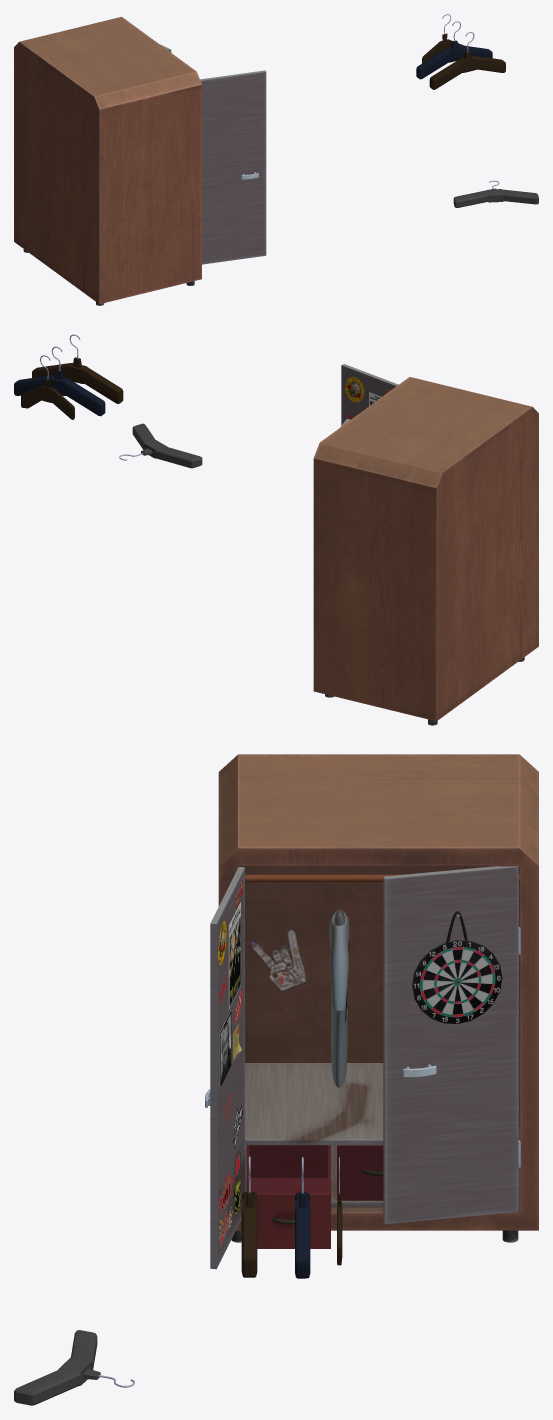
The model's file is closet.glb.
The picture shows the model from 3 angles, top to bottom: view 1: azimuth 30°, elevation 25°; view 2: azimuth 150°, elevation 25°; view 3: azimuth 270°, elevation 25°; orthographic projection. The views are drawn at different scales.
Visible parts, largest first — view 1: armario, porta_1, cabide2, cabide3, cabide, cabide1; view 2: armario, porta_1, cabide, cabide2, cabide3, cabide1; view 3: armario, porta_2, porta_1, gaveta_03, arco, camisola, cabide3, gaveta_02, cabide2, cabide, posteres:poster_n1.
Boxes of the visible parts, left/top/right/bottom form: armario: left=14, top=16, right=201, bottom=305; porta_1: left=200, top=70, right=266, bottom=264; cabide2: left=429, top=32, right=505, bottom=89; cabide3: left=453, top=180, right=538, bottom=207; cabide: left=416, top=21, right=492, bottom=79; cabide1: left=422, top=14, right=463, bottom=63; armario: left=313, top=377, right=538, bottom=725; porta_1: left=341, top=364, right=398, bottom=425; cabide: left=14, top=346, right=105, bottom=416; cabide2: left=32, top=334, right=123, bottom=403; cabide3: left=119, top=423, right=202, bottom=468; cabide1: left=21, top=355, right=74, bottom=419; armario: left=218, top=754, right=538, bottom=1242; porta_2: left=383, top=866, right=520, bottom=1224; porta_1: left=205, top=867, right=244, bottom=1269; gaveta_03: left=246, top=1145, right=330, bottom=1248; arco: left=412, top=911, right=502, bottom=1023; camisola: left=329, top=910, right=349, bottom=1087; cabide3: left=14, top=1330, right=134, bottom=1405; gaveta_02: left=337, top=1145, right=383, bottom=1200; cabide2: left=241, top=1156, right=257, bottom=1277; cabide: left=295, top=1157, right=310, bottom=1278; posteres:poster_n1: left=228, top=902, right=240, bottom=1009.
Bounding box in the file's own units: 3.3 × 1.61 × 1.93.
5 materials, 5 textured.
